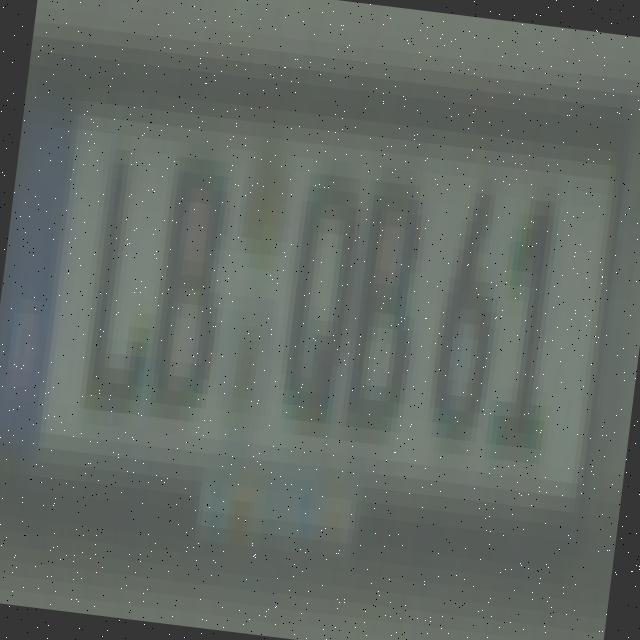Autre: (0, 97, 628, 513)
